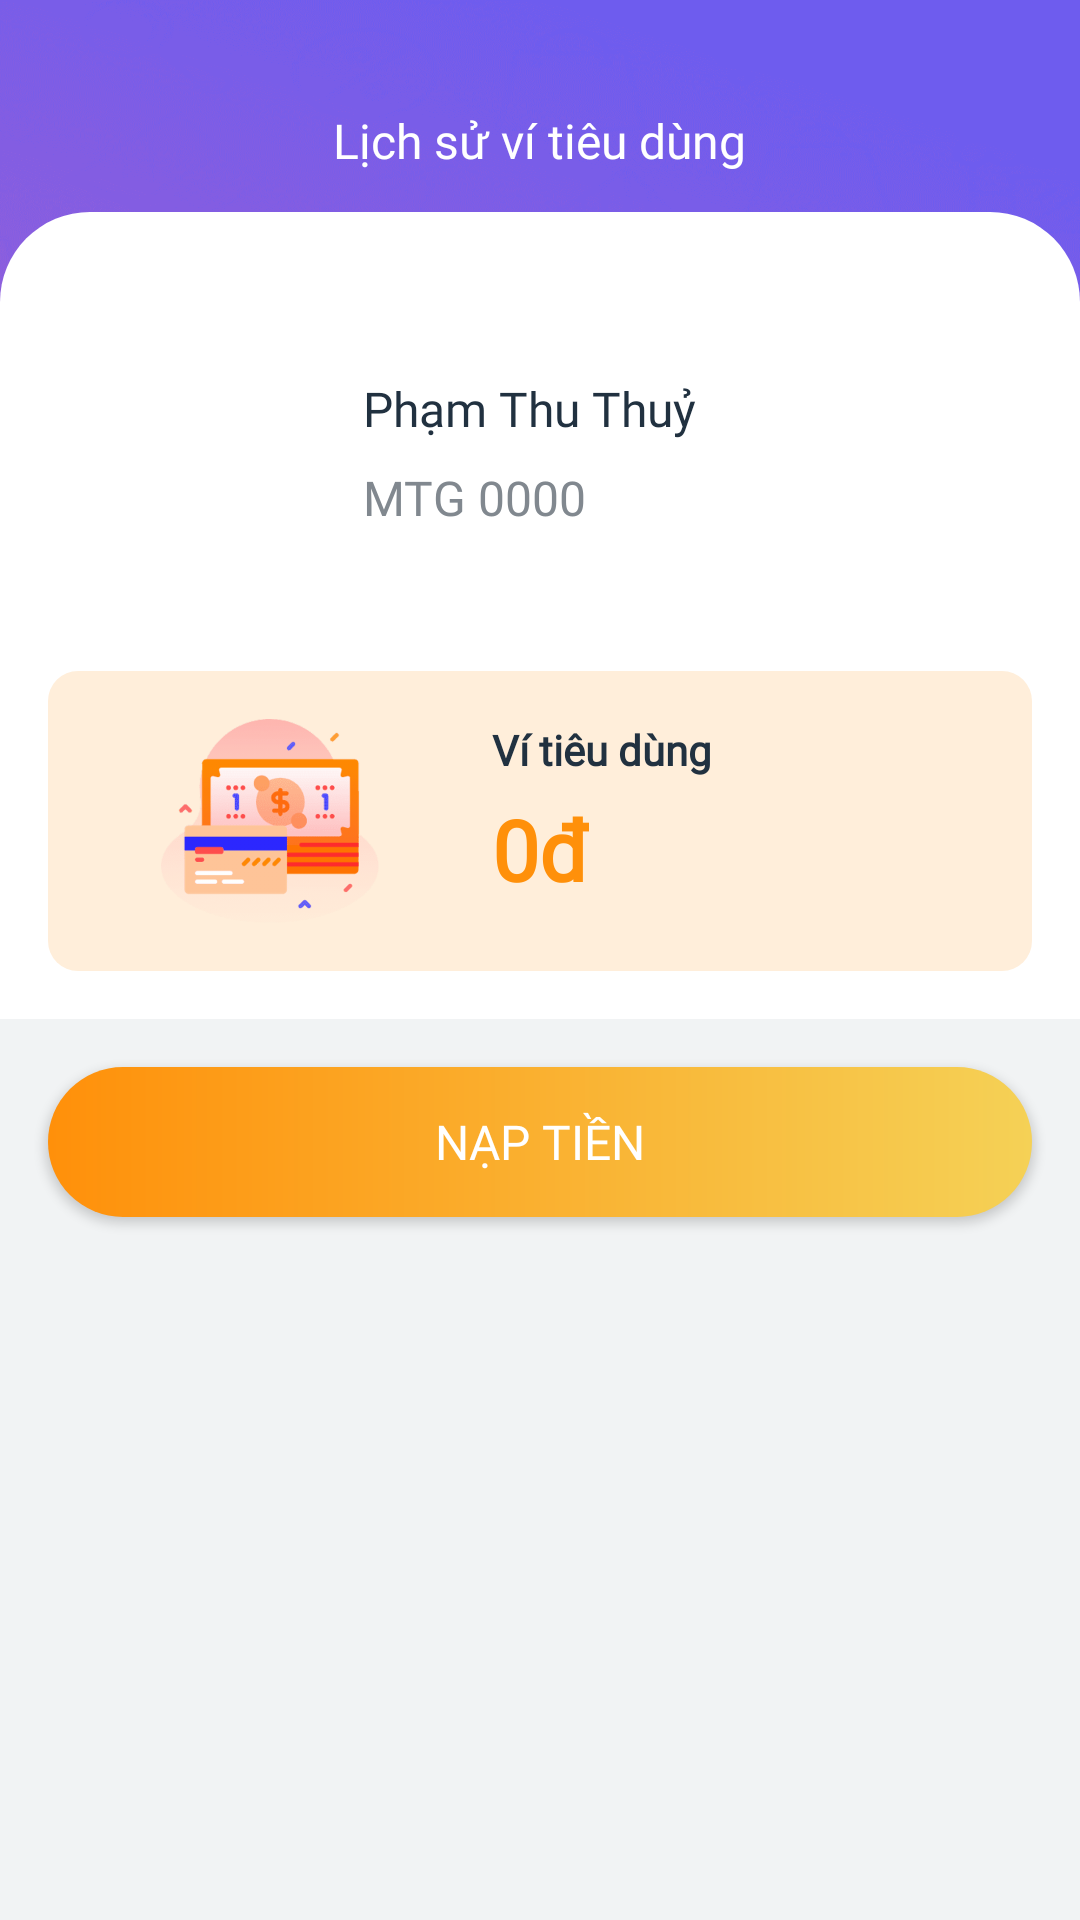

Named icons in this screenshot (1080 × 1920) and their bounding boxes, BBox(x1, y1, x2, y2):
payment: BBox(179, 719, 359, 909)
